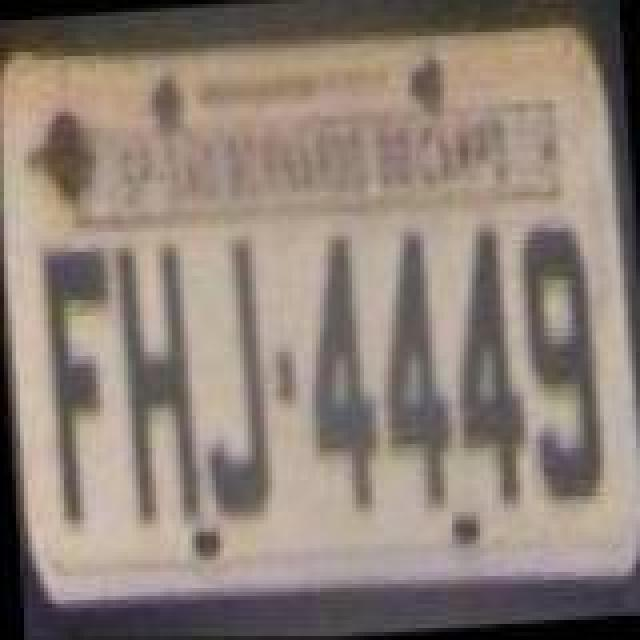4: (298, 232, 386, 524), (446, 220, 534, 512), (372, 230, 456, 518)
9: (516, 220, 608, 508)
F: (40, 242, 124, 526)
H: (114, 238, 202, 530)
J: (192, 236, 276, 528)
